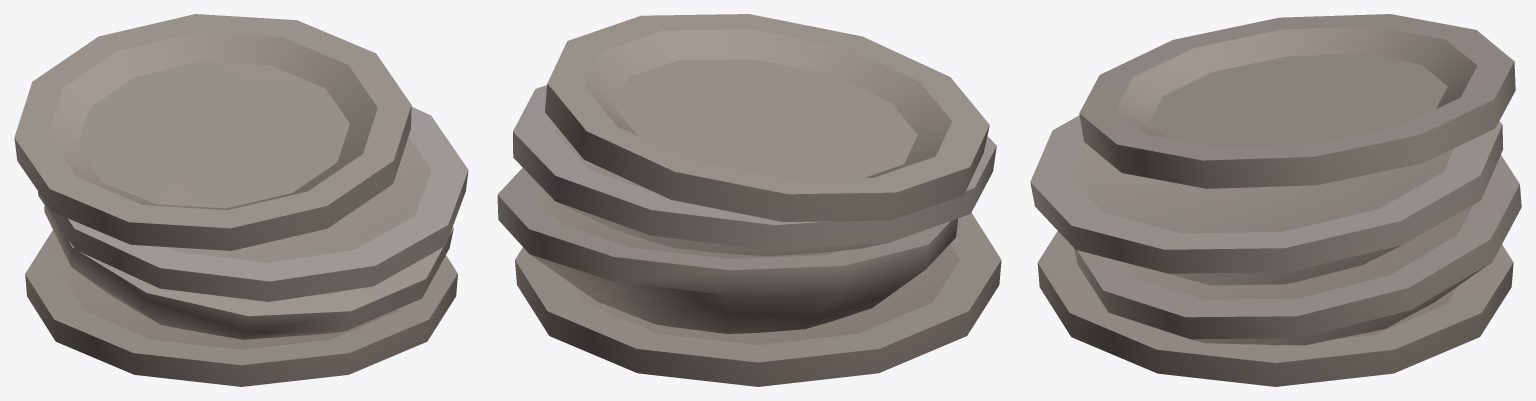
The model's file is plate_stack.glb.
3 views of the same model, side by side, from view 1: azimuth 30°, elevation 25°; view 2: azimuth 150°, elevation 25°; view 3: azimuth 270°, elevation 25° (orthographic). The views are drawn at different scales.
Visible parts, largest first — view 1: plate_stack; view 2: plate_stack; view 3: plate_stack.
Boxes of the visible parts, left/top/right/bottom form: plate_stack: left=14, top=14, right=468, bottom=386; plate_stack: left=497, top=14, right=1001, bottom=386; plate_stack: left=1030, top=14, right=1521, bottom=386.
Bounding box in the file's own units: 0.9971 × 0.5639 × 1.
1 material, 1 textured.
